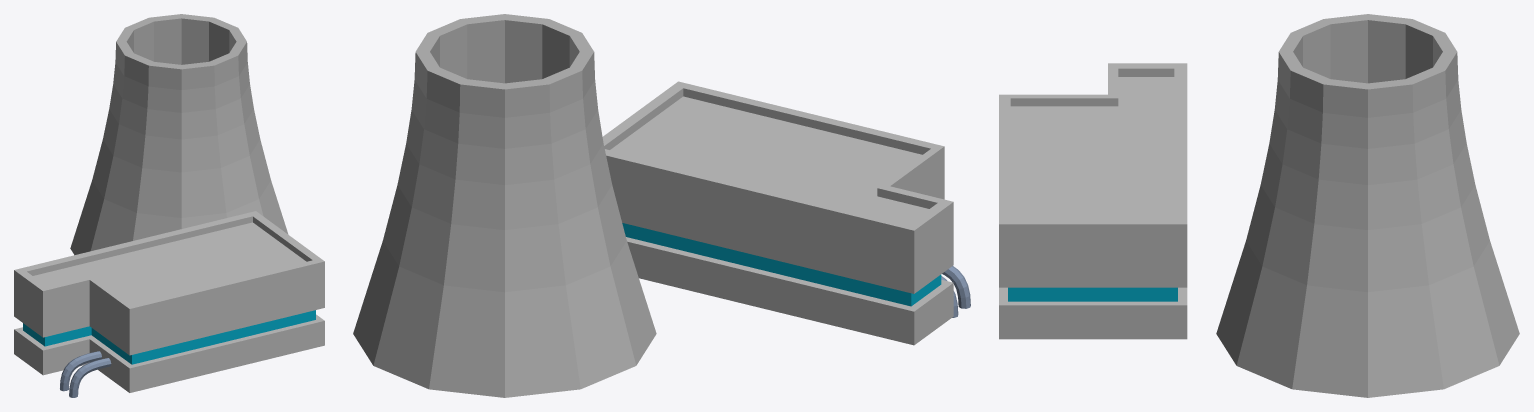
The model's file is NuclearPowerplant.fbx.
3 views of the same model, side by side, from view 1: azimuth 30°, elevation 25°; view 2: azimuth 150°, elevation 25°; view 3: azimuth 270°, elevation 25° (orthographic). The views are drawn at different scales.
Visible parts, largest first — view 1: Building, Tower; view 2: Tower, Building; view 3: Tower, Building.
Part boxes in pixels (x1=…): Building: x1=14, y1=211, x2=324, y2=397; Tower: x1=70, y1=14, x2=288, y2=255; Tower: x1=353, y1=14, x2=656, y2=397; Building: x1=602, y1=81, x2=970, y2=345; Tower: x1=1216, y1=14, x2=1519, y2=397; Building: x1=999, y1=63, x2=1187, y2=339.
Size of the model in its own units: 553 by 346 by 554.
